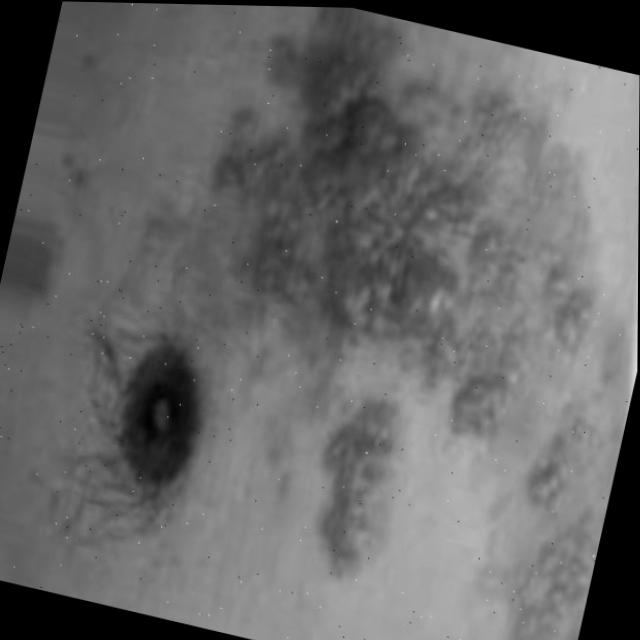Shingles: (136, 3, 640, 640)
